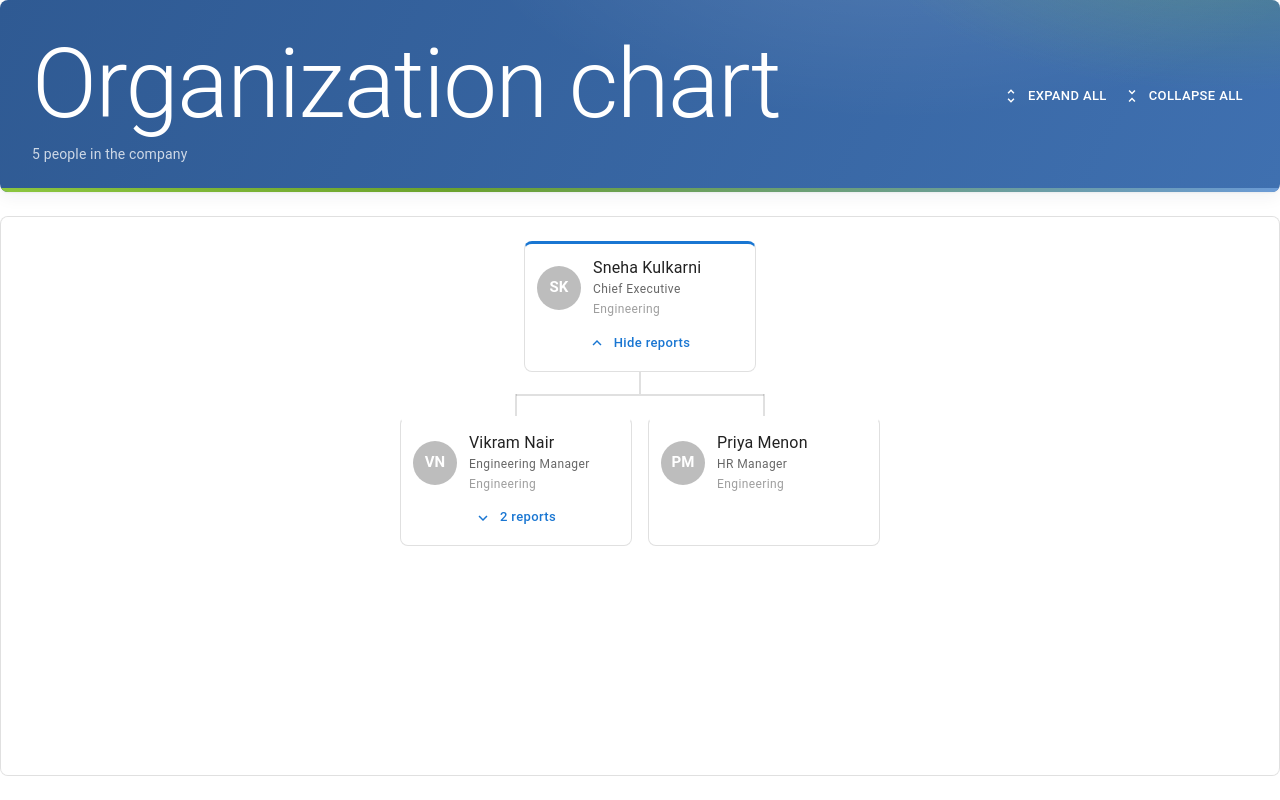
Scenario: OrgChartPage › opens a branch when its own control is used
Click the button "2 reports".
click(516, 518)  # box [413, 502, 619, 533]
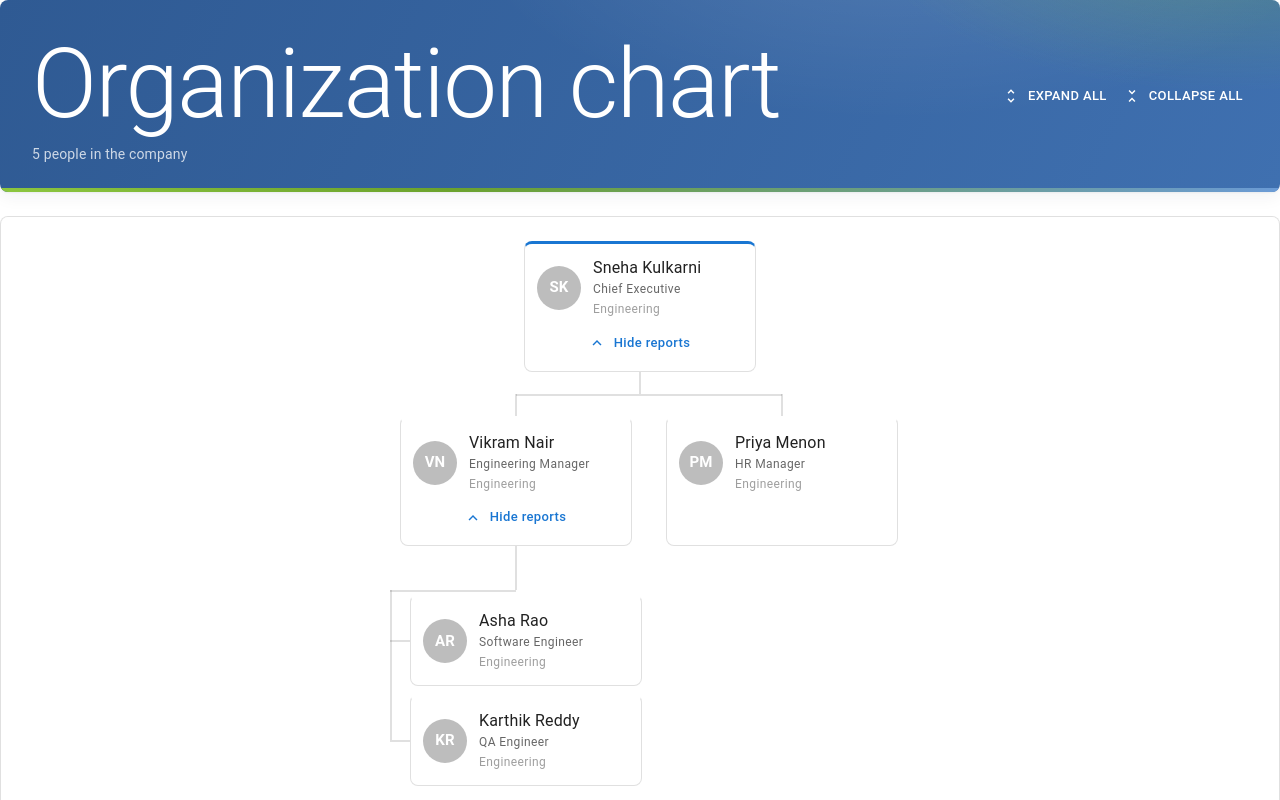
Expected: the button "Asha Rao" is shown, [479, 609, 548, 633]
Expected: the button "Karthik Reddy" is shown, [479, 709, 580, 733]
